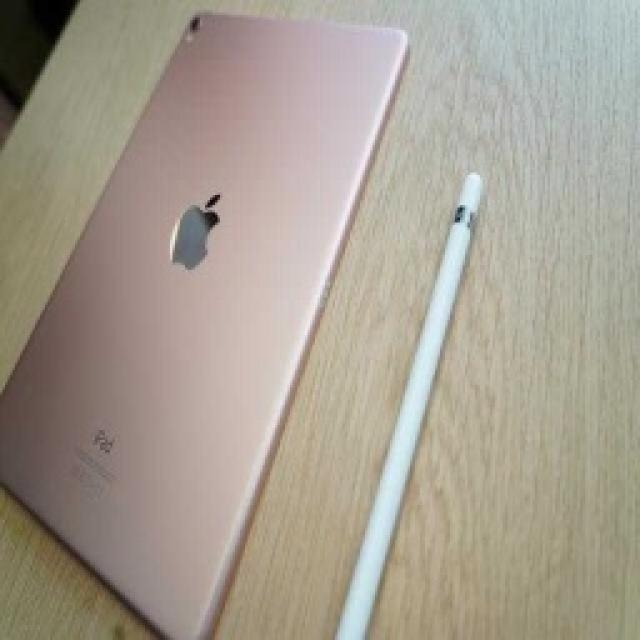pencil: (165, 188, 225, 272)
